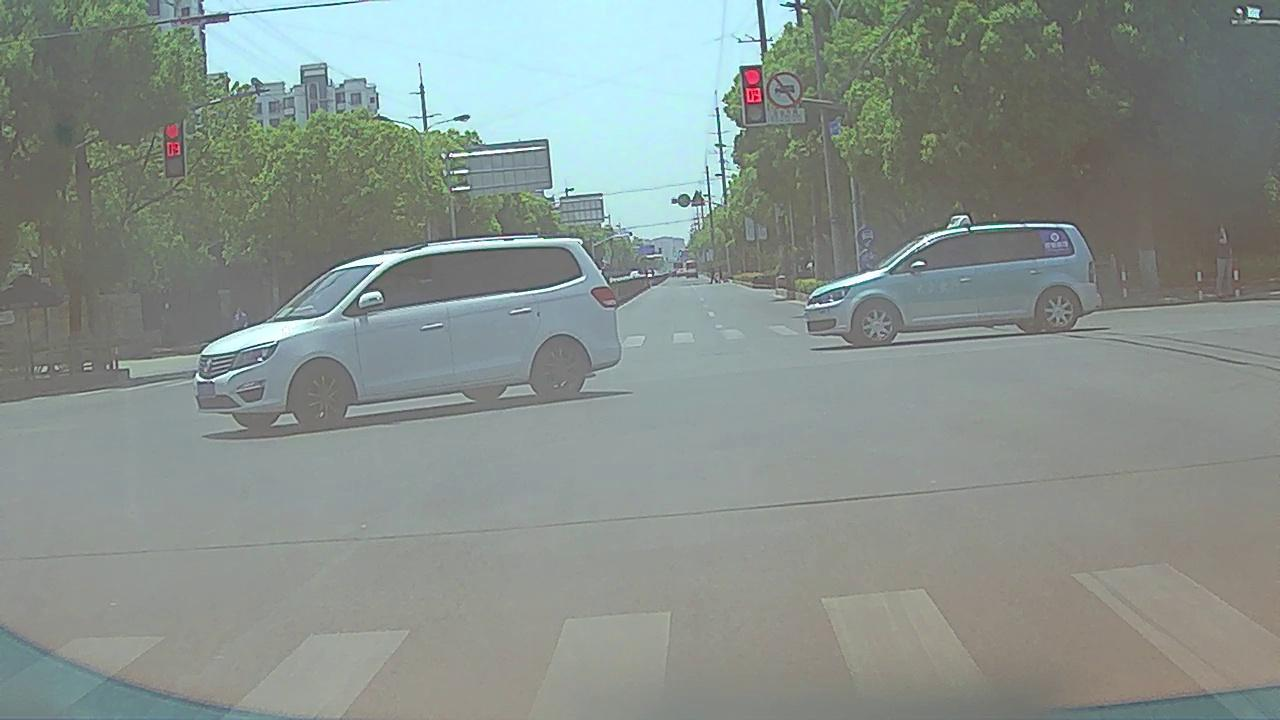traffic_light: (741, 65, 766, 126), (162, 119, 186, 179)
